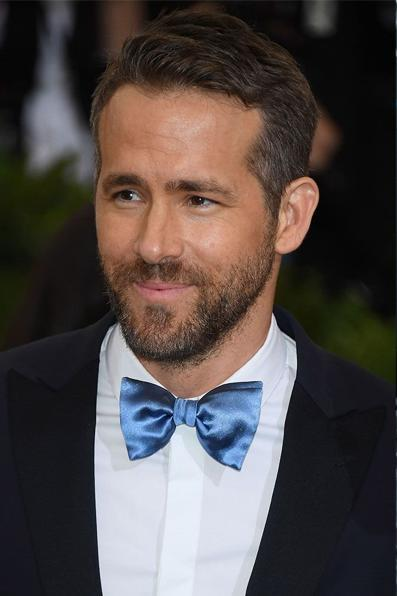Sober: (98, 112, 244, 325)
